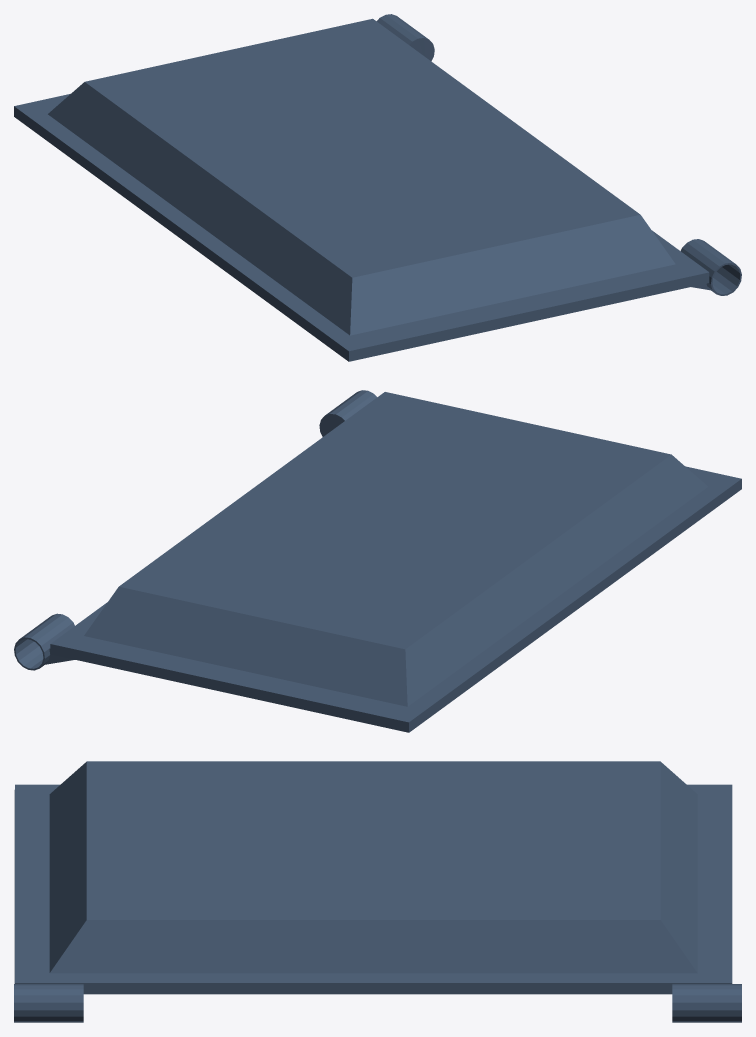
The model's file is 2_door__Safe.obj.
3 renders of one model, top to bottom at view 1: azimuth 30°, elevation 25°; view 2: azimuth 150°, elevation 25°; view 3: azimuth 270°, elevation 25°, orthographic. The views are drawn at different scales.
Visible parts, largest first — view 1: 2_door__Safe; view 2: 2_door__Safe; view 3: 2_door__Safe.
Part boxes in pixels (x1=…): 2_door__Safe: x1=14, y1=14, x2=741, y2=361; 2_door__Safe: x1=14, y1=390, x2=741, y2=732; 2_door__Safe: x1=14, y1=761, x2=741, y2=1022.
Size of the model in its own units: 0.2907 by 0.0538 by 0.4355.
